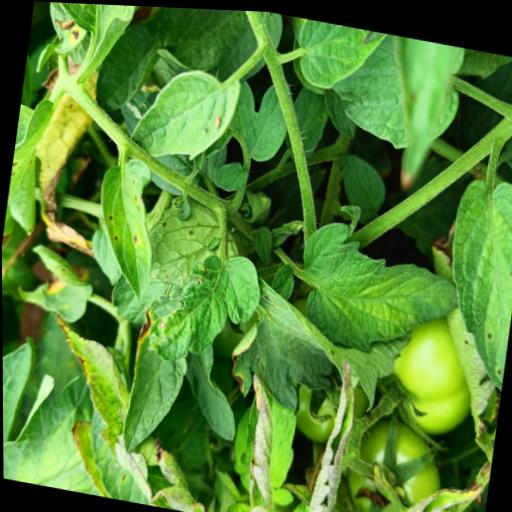Early Blight: (223, 272, 415, 425), (431, 167, 512, 384), (115, 299, 195, 465), (84, 147, 169, 303)
Healthy: (288, 211, 464, 363)
